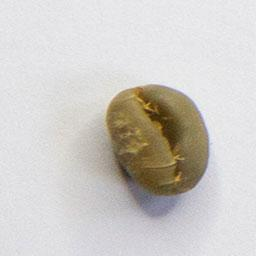peaberry: (102, 81, 214, 200)
